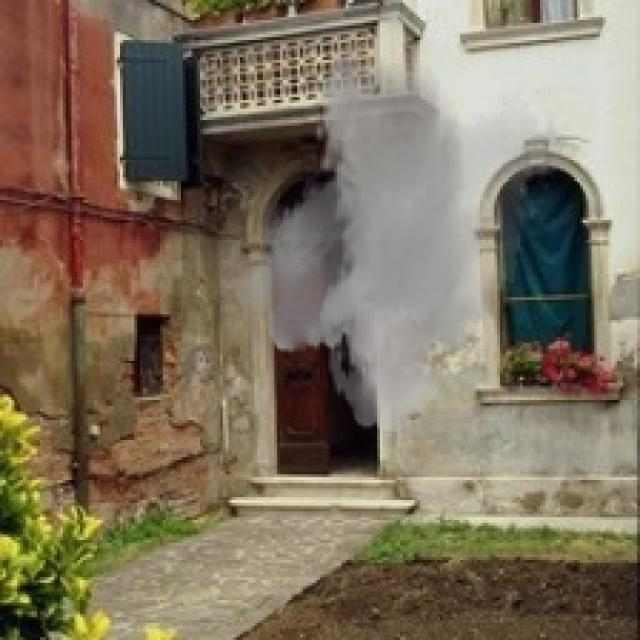Smoke: (223, 42, 580, 434)
